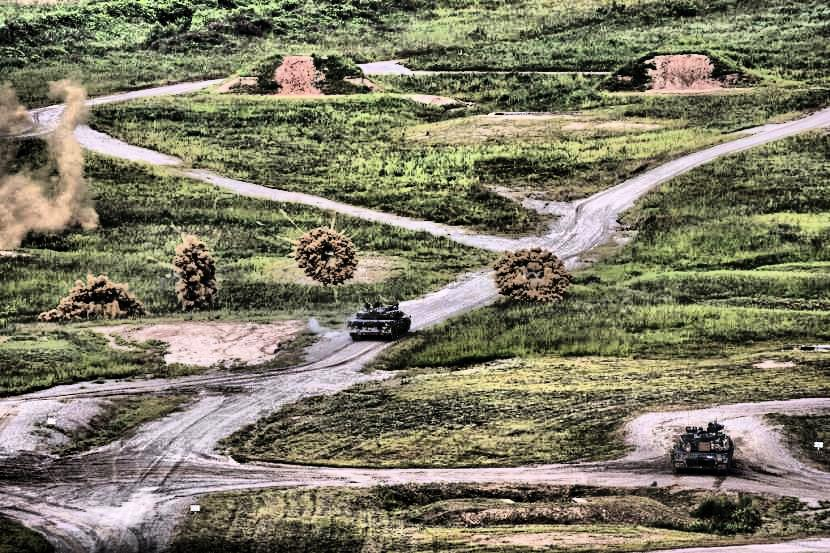military-vehicle: (673, 422, 734, 474), (349, 303, 412, 341)
